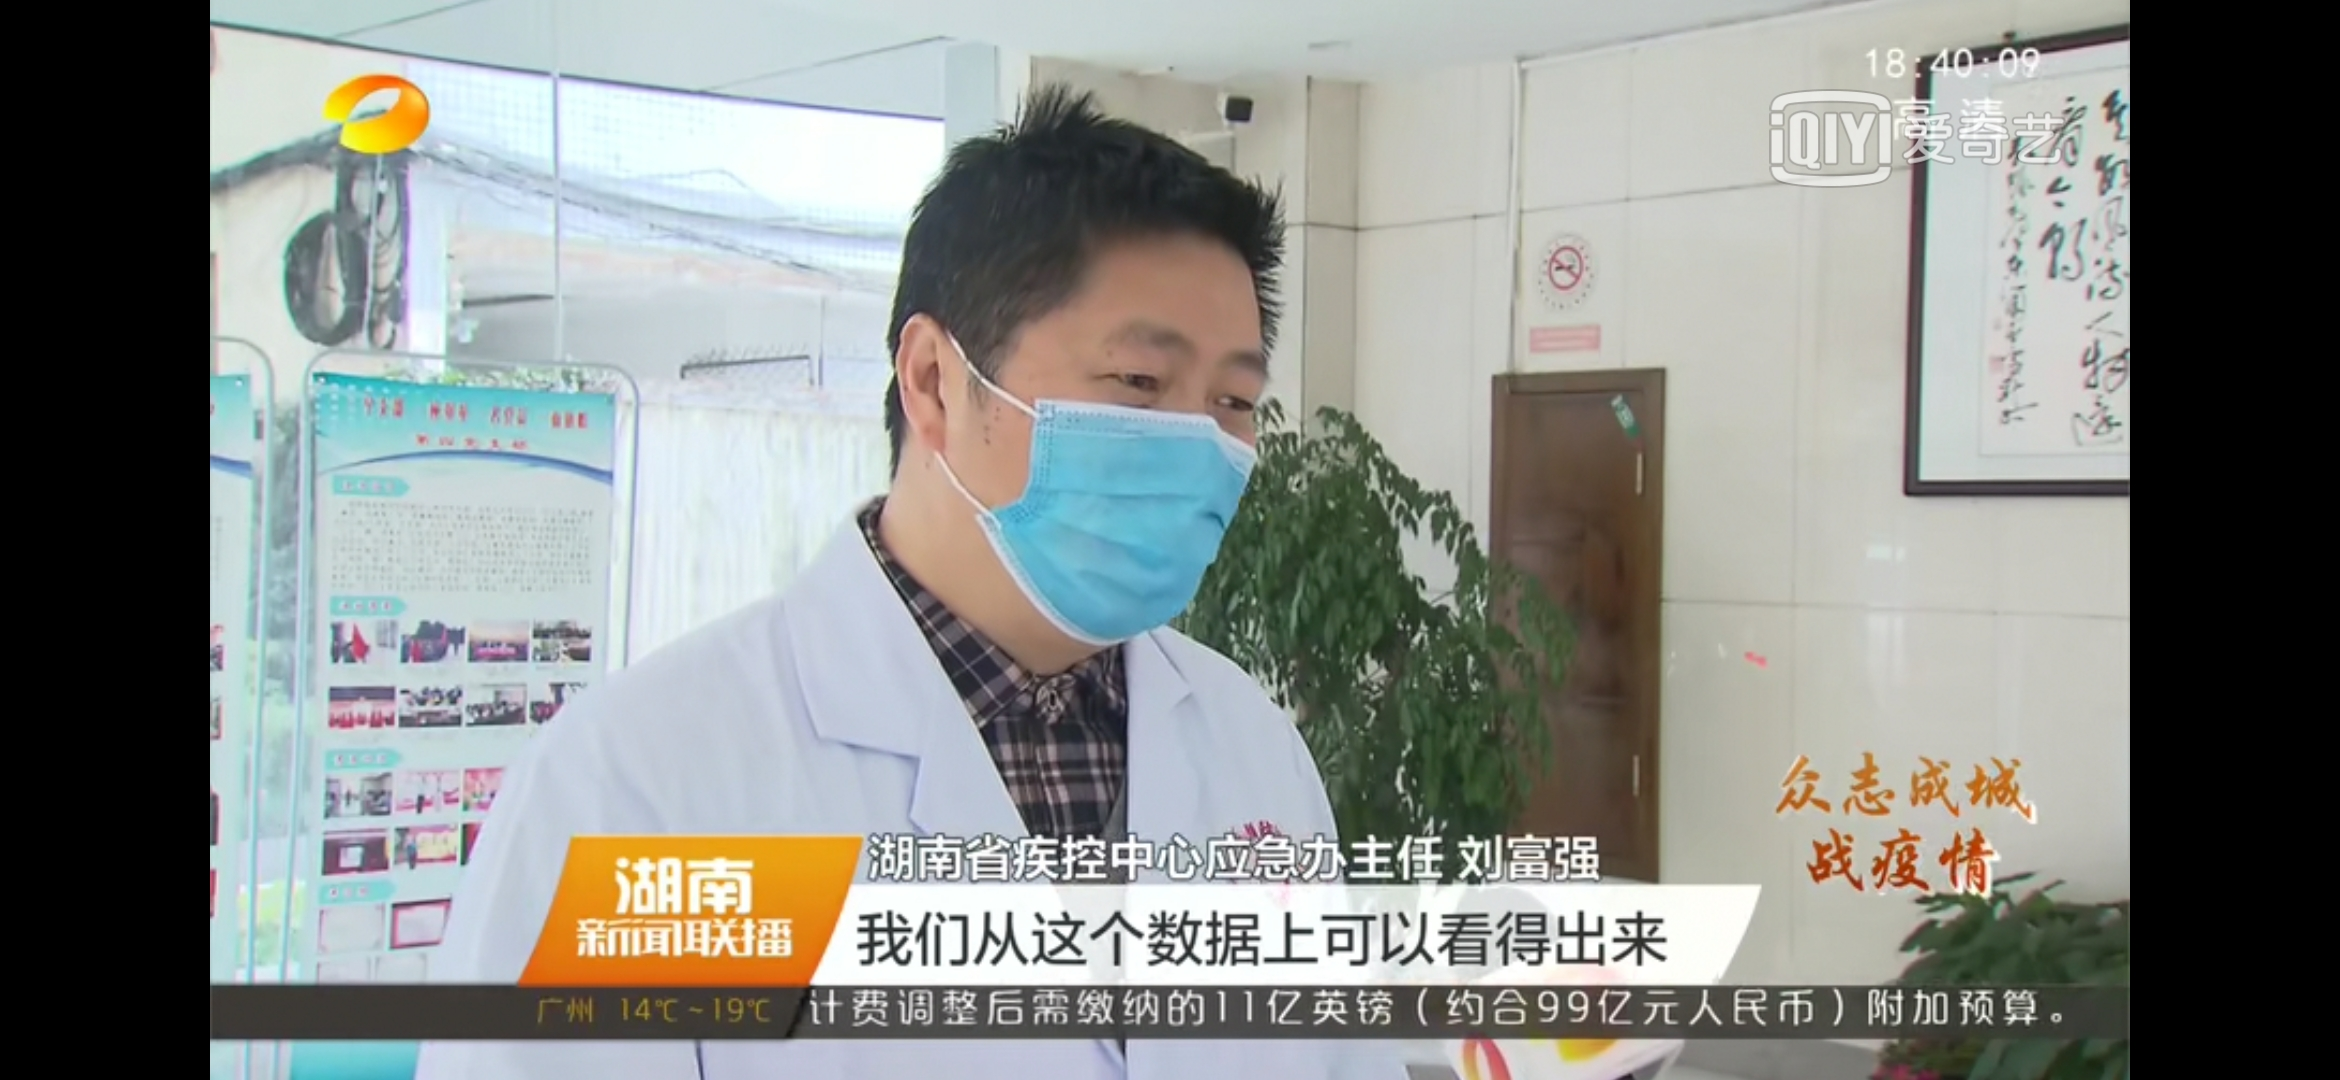correctlyWear: (891, 303, 1266, 647)
